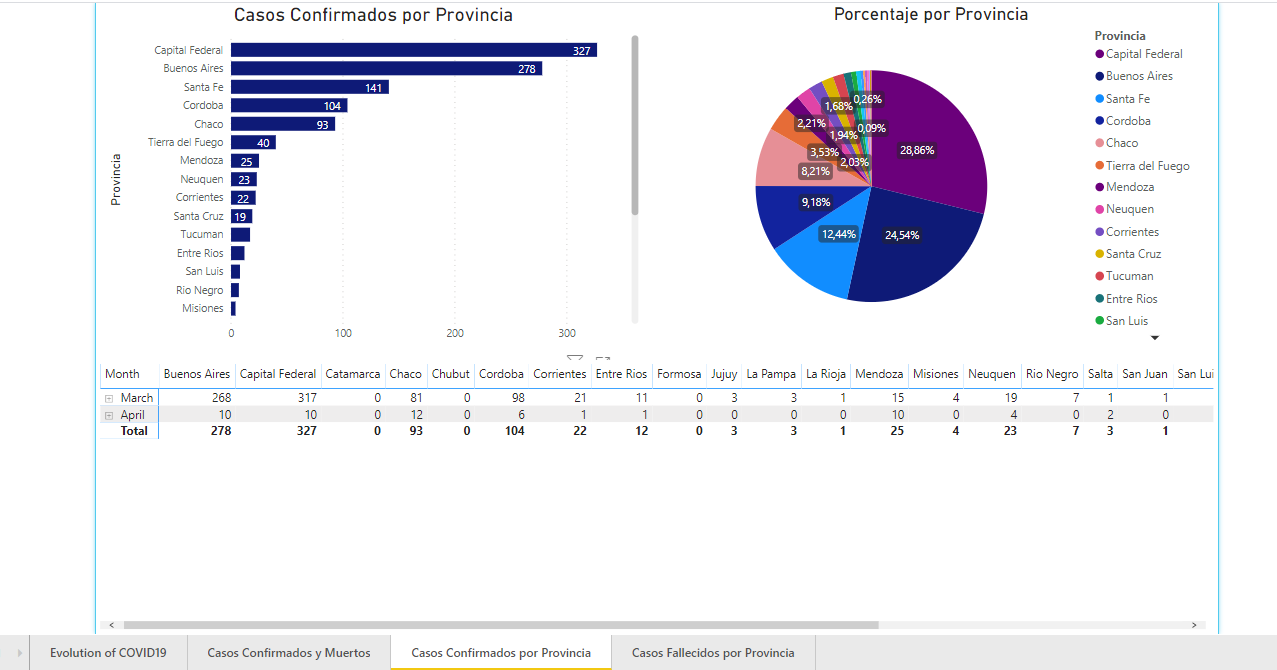

What the dashboard file says about the page in this screenshot:
{"tool":"powerbi","page":{"name":"Casos Confirmados por Provincia","canvas":[1280,720],"ordinal":2},"visuals":[{"type":"barChart","title":"Casos Confirmados por Provincia","fields":{"Y":["Sum(COVID19_Confirmed.Confirmed)"],"Category":["COVID19_Confirmed.Provincia"]},"box":[9.6,0,615.2,395],"z":0},{"type":"pivotTable","fields":{"Rows":["Calendario.Date.Variation.Date Hierarchy.Month","Calendario.Date.Variation.Date Hierarchy.Day"],"Columns":["COVID19_Confirmed.Provincia"],"Values":["Sum(COVID19_Confirmed.Confirmed)"]},"box":[0,407.4,1280,312.4],"z":1000},{"type":"pieChart","title":"Porcentaje por Provincia","fields":{"Category":["COVID19_Confirmed.Provincia"],"Y":["Sum(COVID19_Confirmed.Confirmed)"]},"box":[624.9,0,655.1,395],"z":2000}]}

Visuals, with their boxes on the page's 1280x720 design canvas (x1, y1, x2, y2). These are canvas units, not pixel positions in the 1277x670 screenshot, which may show the page scaled, cropped or inside an application window:
"Casos Confirmados por Provincia" barChart: x1=10, y1=0, x2=625, y2=395
pivotTable - Calendario.Date.Variation.Date Hierarchy.Month x Calendario.Date.Variation.Date Hierarchy.Day: x1=0, y1=407, x2=1280, y2=720
"Porcentaje por Provincia" pieChart: x1=625, y1=0, x2=1280, y2=395
